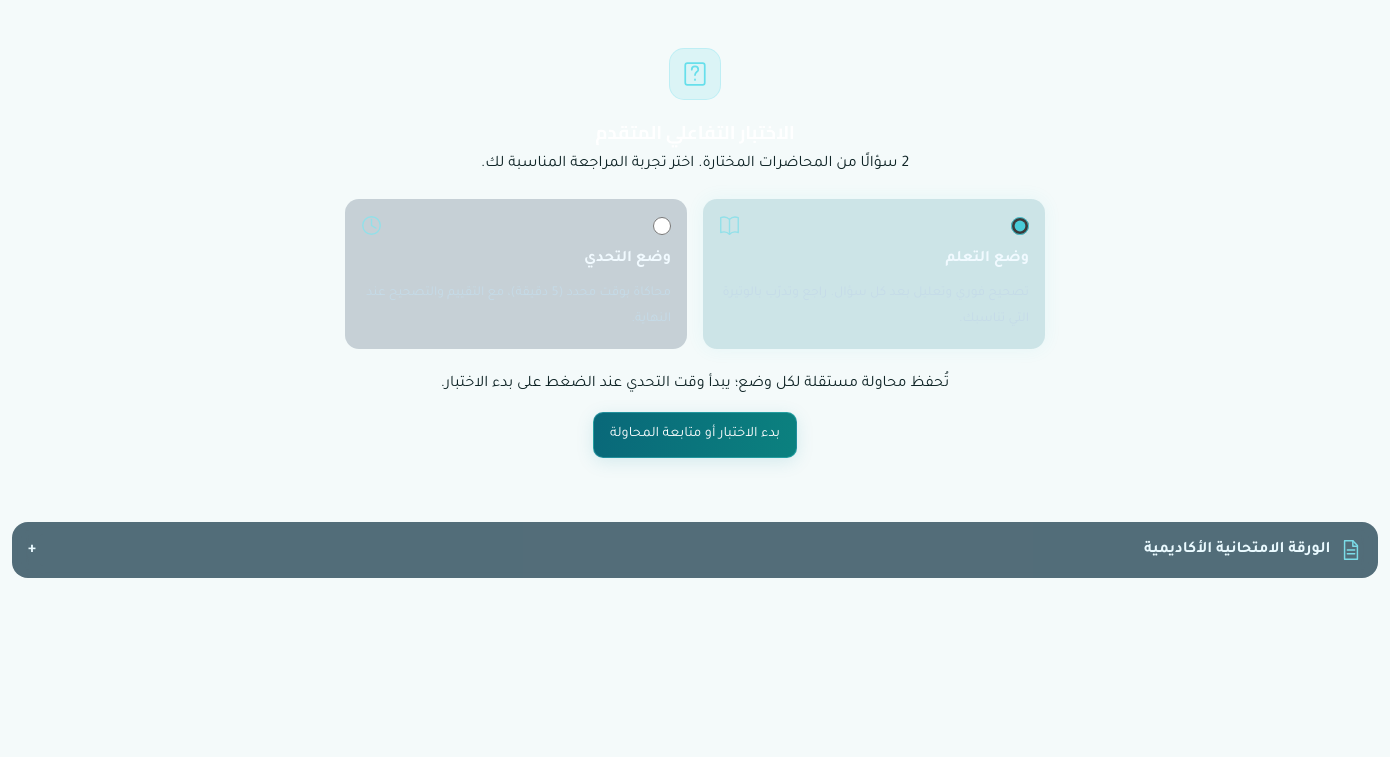
Test case: inline server-graded exam quiz › starts an owned attempt, records feedback, and shows the server result inside the tab
Click the button "بدء الاختبار أو متابعة المحاولة".
click(695, 435)  # box [593,412,797,458]
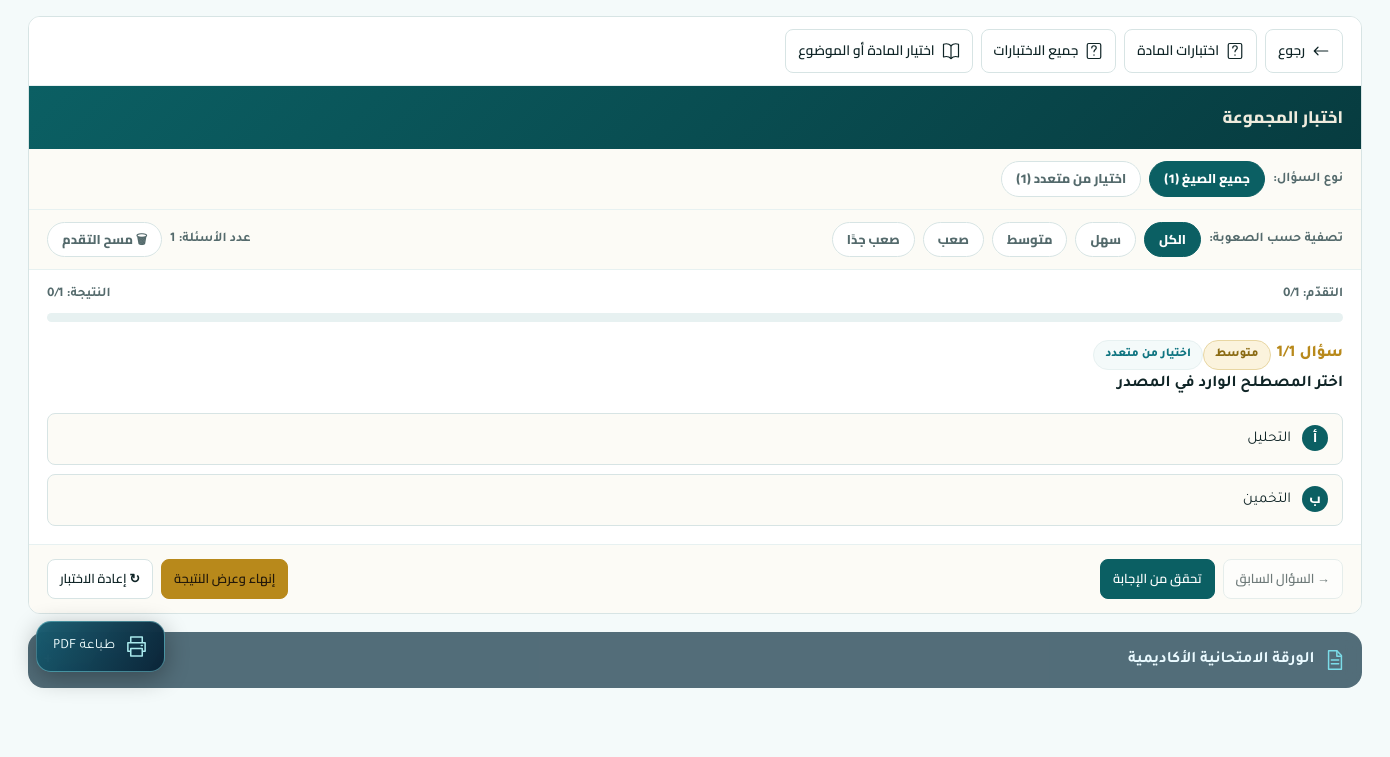
Expected: the text "تفسير معتمد من المصدر." is not shown
Now the heading "اختر المصطلح الوارد في المصدر" is shown, box [1117,376,1343,392]
Click the button "أ التحليل".
click(1269, 439)  # box [47,413,1343,465]
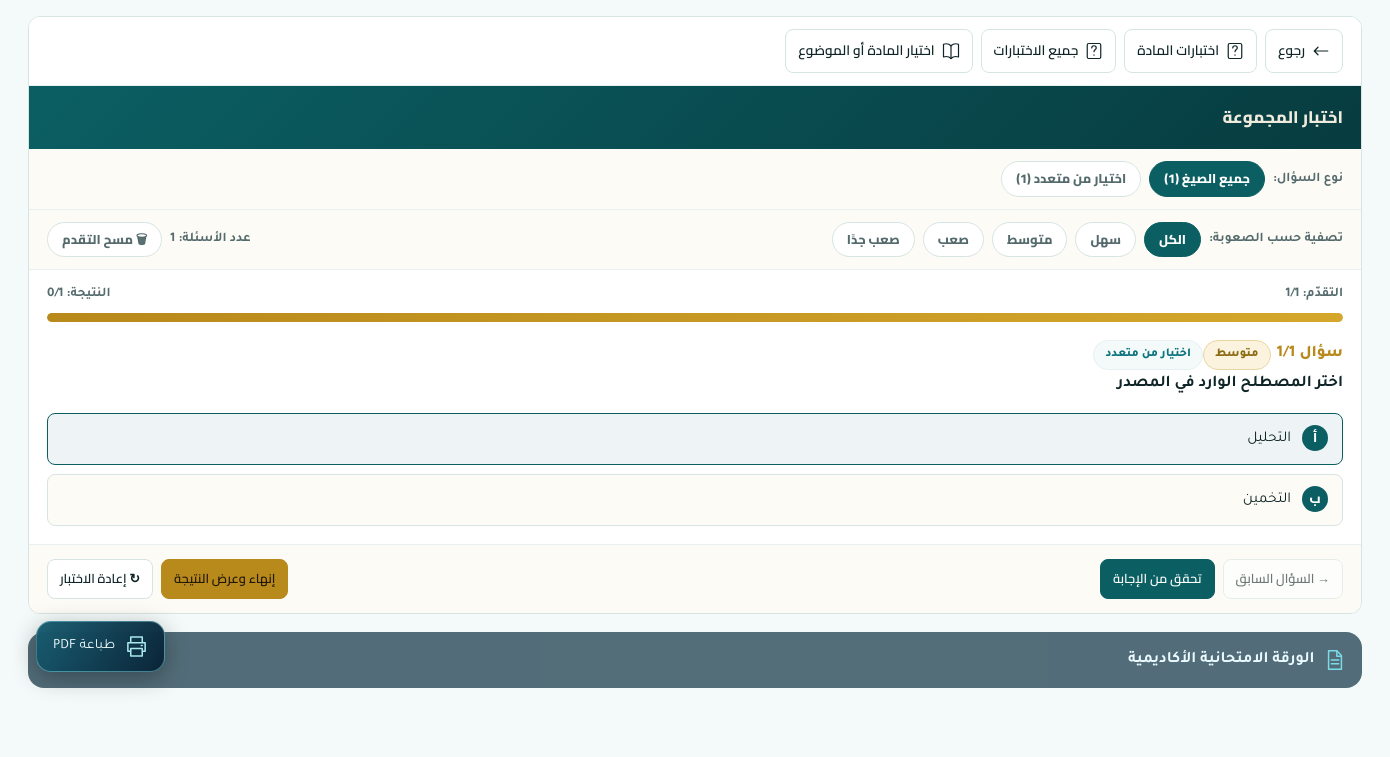
Click the button "تحقق من الإجابة".
click(1157, 579)  # box [1100,559,1215,599]
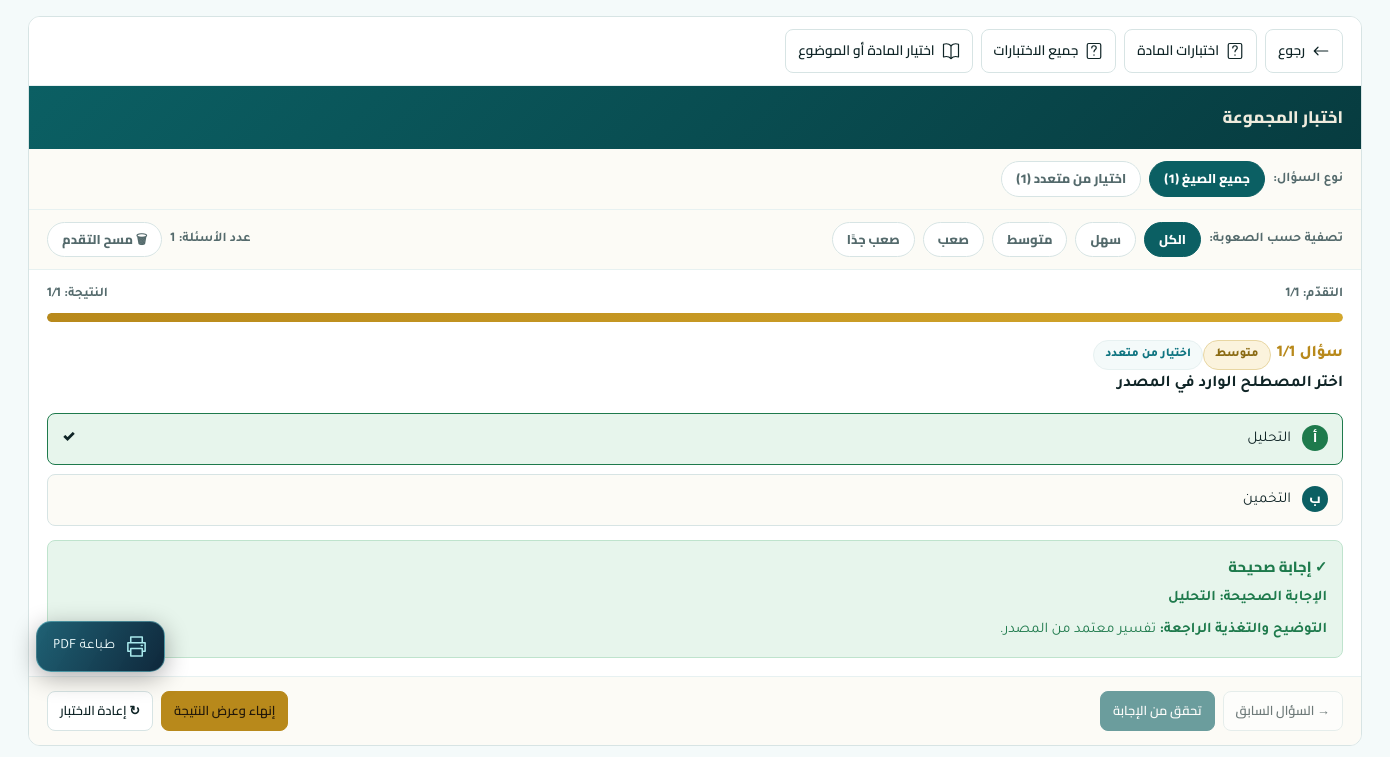
Now the text "✓ إجابة صحيحة" is shown, box [1228,553,1327,580]
Click the button "إنهاء وعرض النتيجة".
click(225, 710)  # box [161,690,288,730]
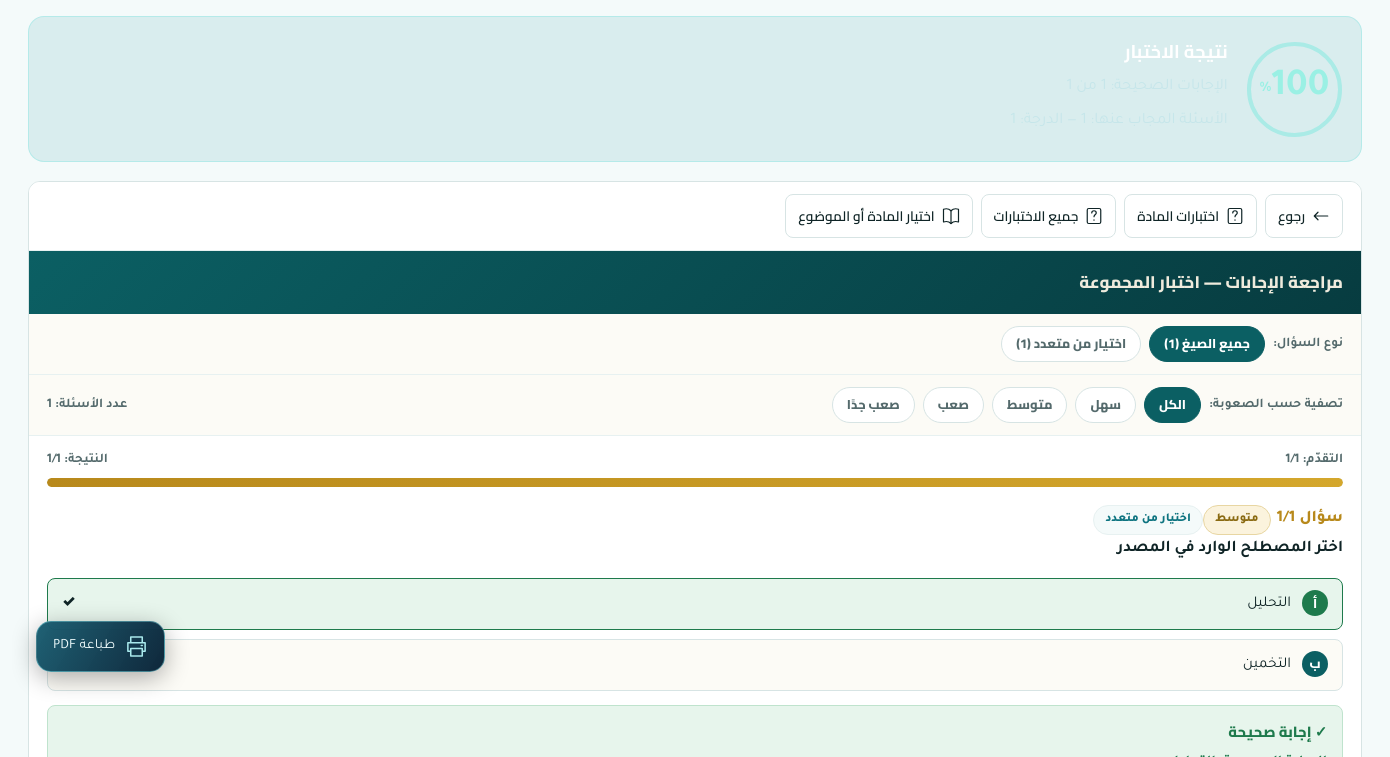
Now the message "نتيجة الاختبار" is shown, box [28,16,1362,162]
